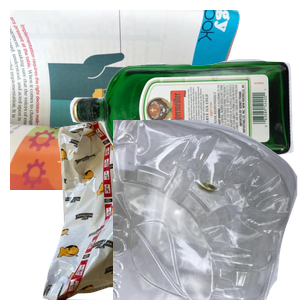glass: (67, 56, 300, 206)
paper: (10, 10, 250, 190)
plastic: (113, 120, 300, 300)
trash: (25, 120, 198, 300)
